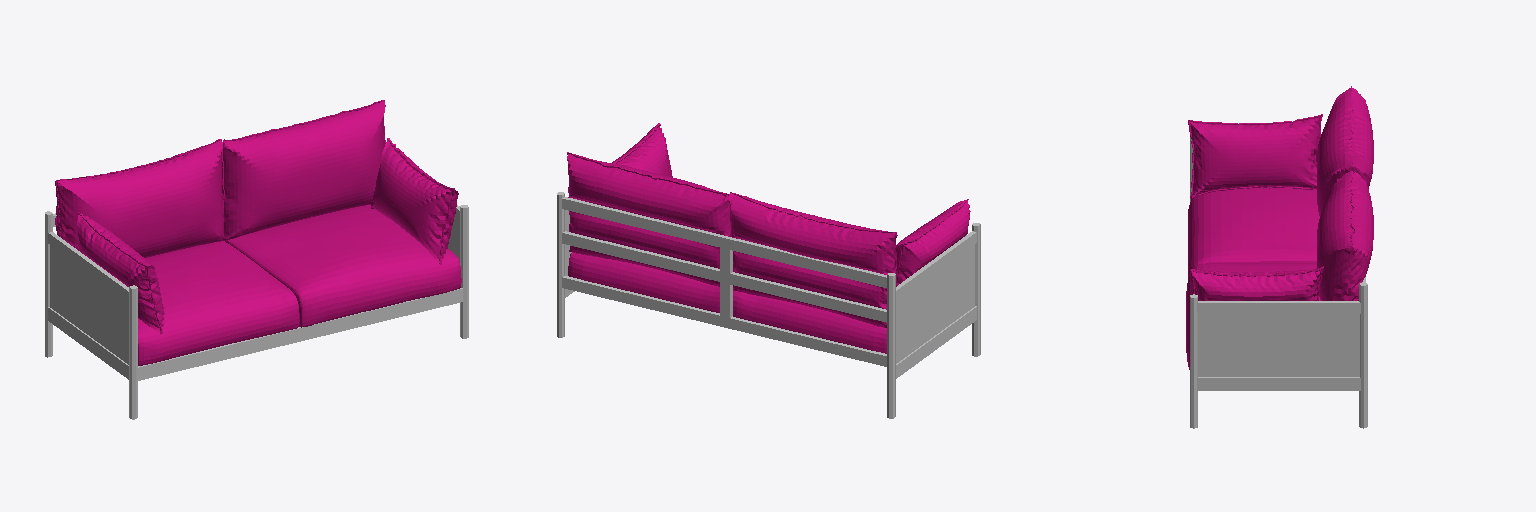
The model's file is sofa-040.obj.
3 views of the same model, side by side, from view 1: azimuth 30°, elevation 25°; view 2: azimuth 150°, elevation 25°; view 3: azimuth 270°, elevation 25° (orthographic).
Parts seen in each view (by area): view 1: sofa-040; view 2: sofa-040; view 3: sofa-040.
Boxes of the visible parts, x1,y1,x2,y2 form: sofa-040: [45, 100, 468, 419]; sofa-040: [557, 123, 980, 418]; sofa-040: [1186, 86, 1373, 428].
Size of the model in its own units: 1.8 by 0.9162 by 0.8648.